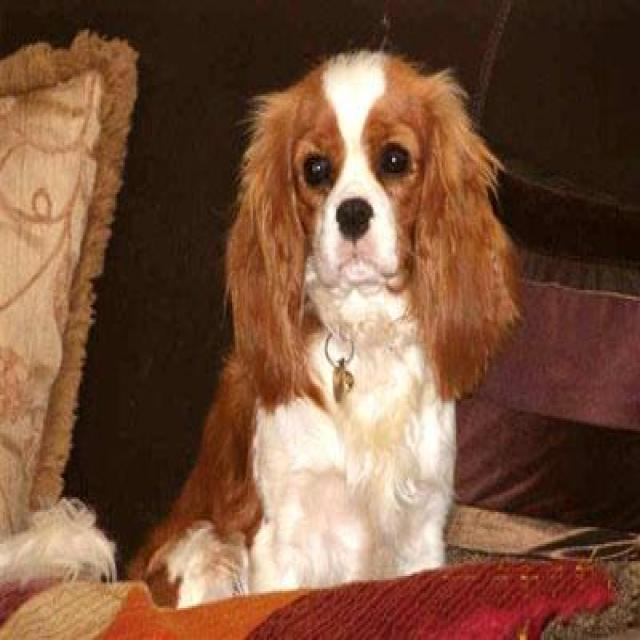blenheim_spaniel: (0, 47, 522, 612)
